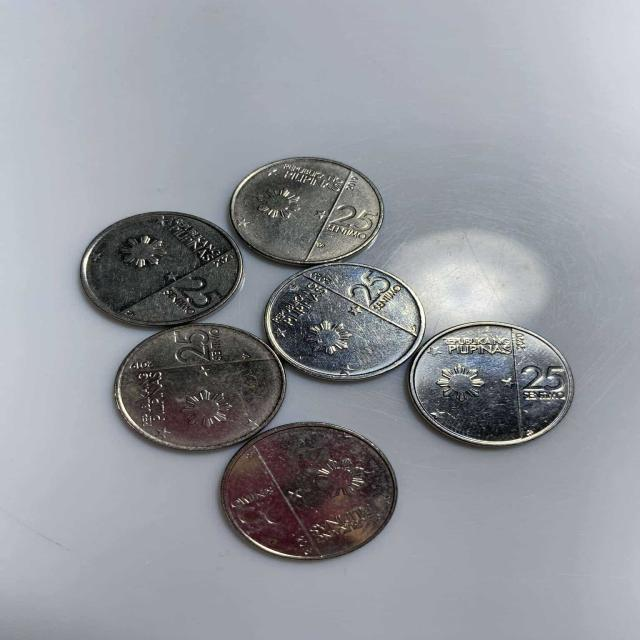25Cent_New_Front: (238, 495, 284, 533), (350, 268, 395, 303), (331, 202, 377, 234), (176, 276, 223, 306), (519, 364, 565, 394), (171, 330, 214, 362)
